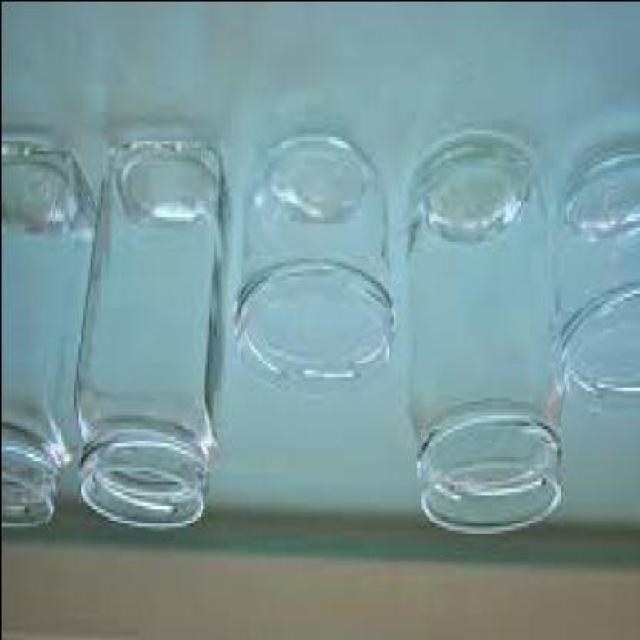GLASS: (409, 130, 568, 536), (74, 138, 228, 532), (238, 135, 394, 400), (2, 143, 98, 532), (558, 142, 638, 418)
